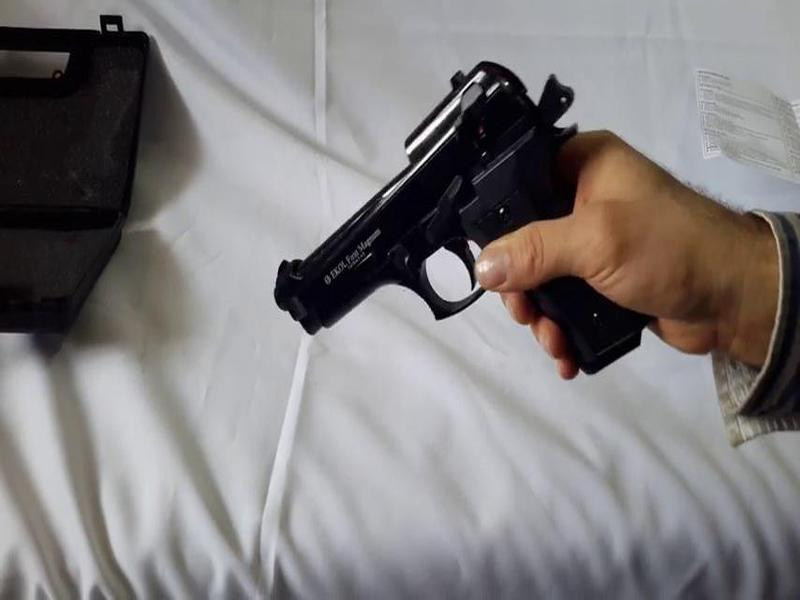Pistola: (275, 44, 658, 397)
